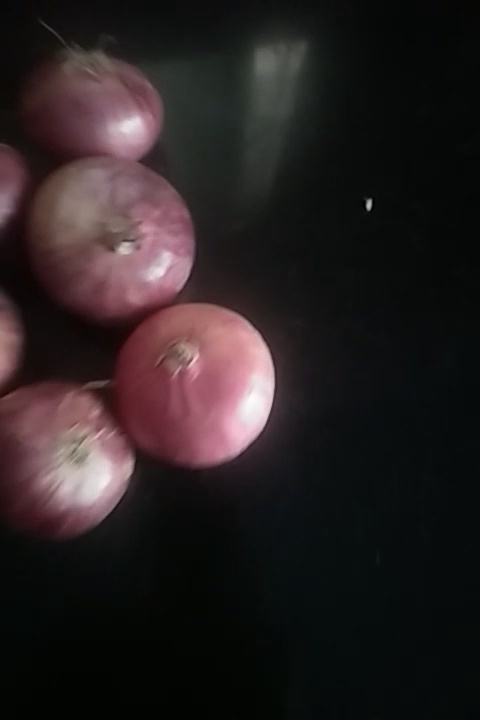onion: (23, 156, 208, 314), (120, 293, 267, 479), (1, 382, 138, 543), (14, 39, 178, 167), (1, 283, 40, 393)
